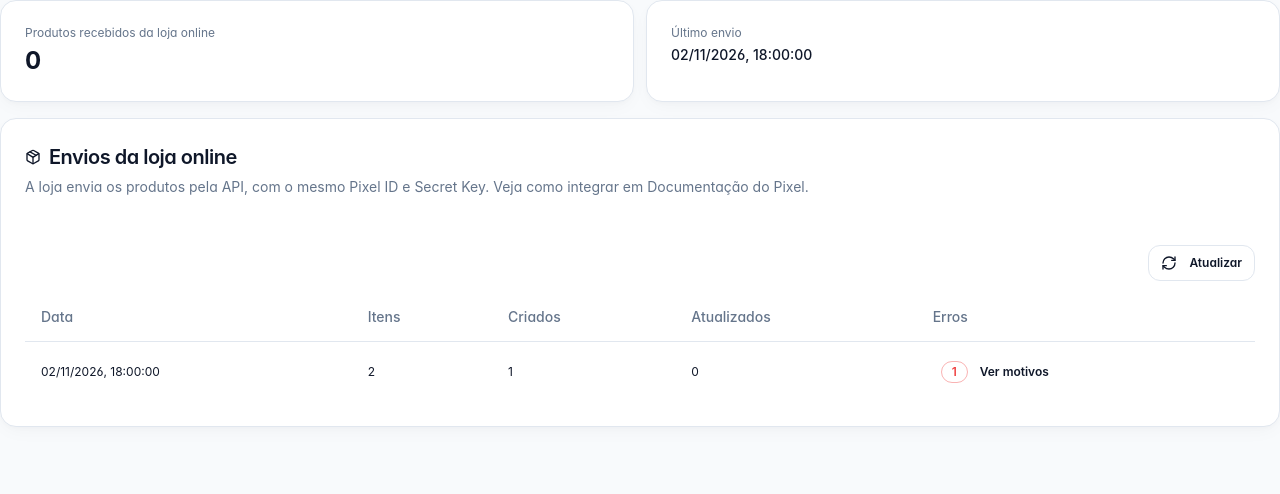
Test case: PixelProductsPanel › traduz o motivo do erro para o texto da loja
The image size is (1280, 494).
What coordinates should you click on to do the following:
click the button "1 Ver motivos"
I would click on:
 (995, 372)
Its box is [933,358,1057,386].
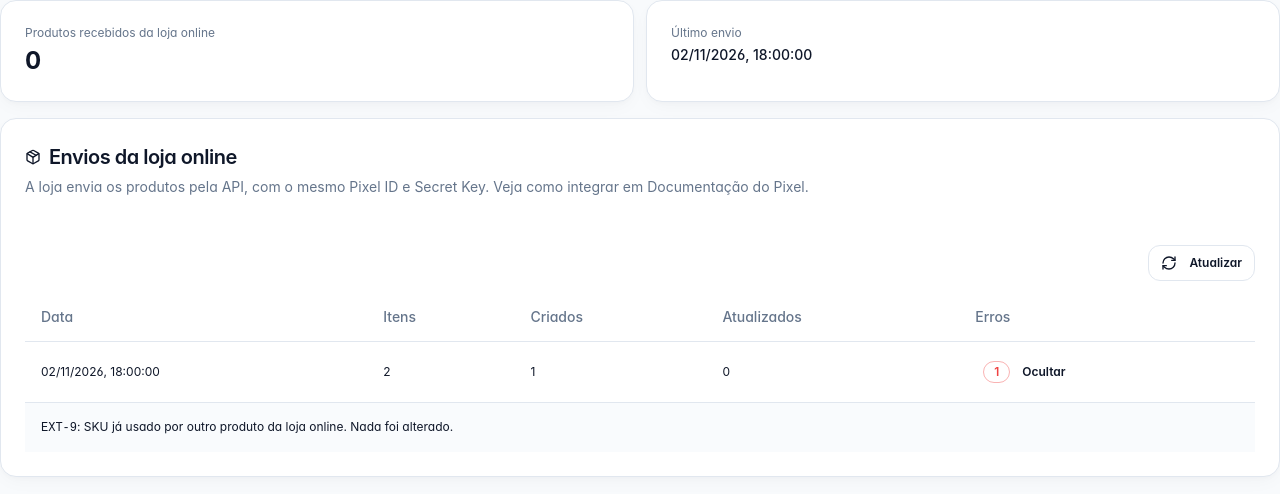
Expected: the text "EXT-9" is shown, [41,420,77,434]
Expected: the text "SKU já usado por outro produto da loja online" is shown, [84,418,453,434]
